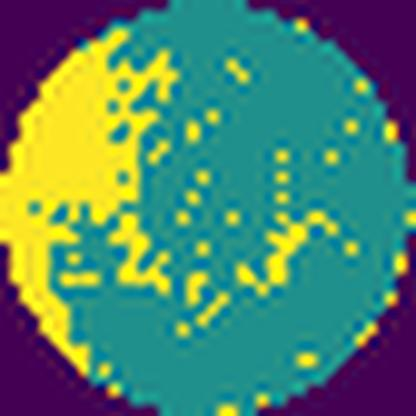Edge-Loc: (0, 19, 184, 386)
